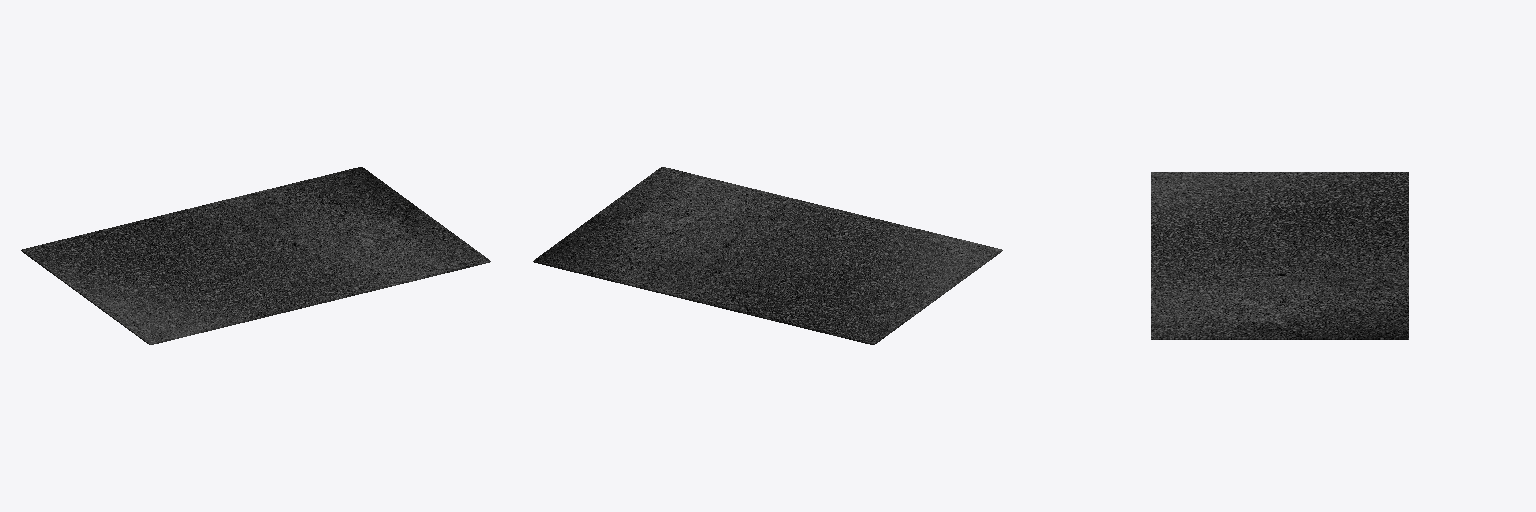
The picture shows the model from 3 angles: view 1: azimuth 30°, elevation 25°; view 2: azimuth 150°, elevation 25°; view 3: azimuth 270°, elevation 25°; orthographic projection.
Parts seen in each view (by area): view 1: asfalto2:pCube10 group114; view 2: asfalto2:pCube10 group114; view 3: asfalto2:pCube10 group114.
Part boxes in pixels (x1,y1,x2,y2): asfalto2:pCube10 group114: (21,167,490,344); asfalto2:pCube10 group114: (533,167,1002,344); asfalto2:pCube10 group114: (1151,172,1408,339).
Size of the model in its own units: 52.81 by 0.2003 by 34.64.
Materials: 1 (1 with a texture image).